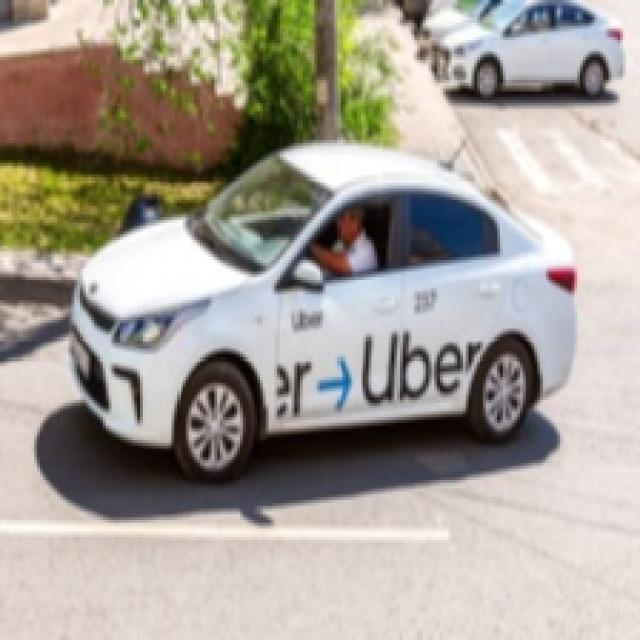car: (62, 154, 596, 467), (436, 8, 636, 106)
